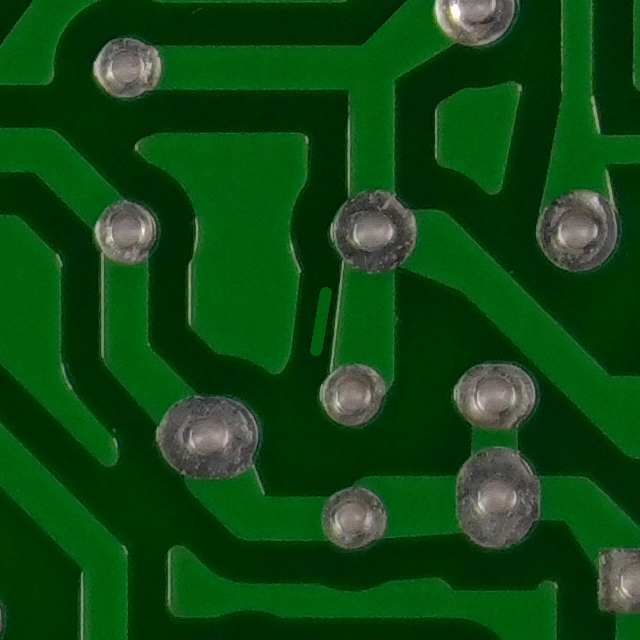spurious_copper: (288, 274, 352, 367), (339, 623, 448, 640)
